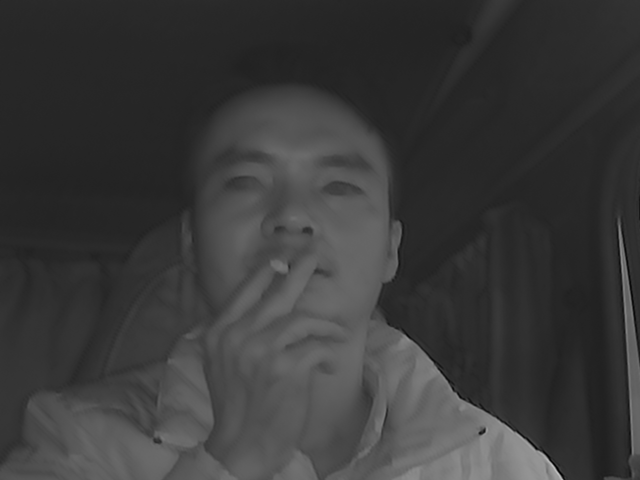hand: (208, 248, 344, 401)
